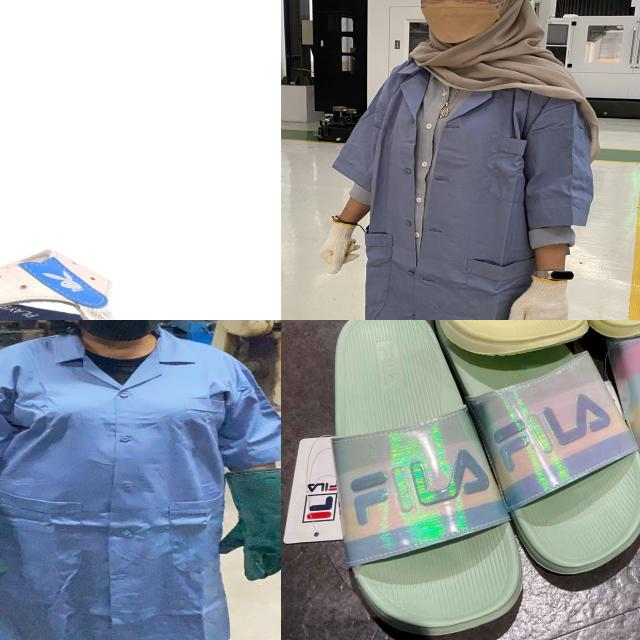Sandals: (300, 320, 640, 640), (0, 247, 261, 320)
face_mask: (416, 0, 500, 42), (66, 320, 169, 341)
hand_glove: (192, 507, 281, 581), (493, 273, 573, 320), (309, 218, 367, 269)
person: (311, 0, 605, 320), (0, 320, 281, 640)
